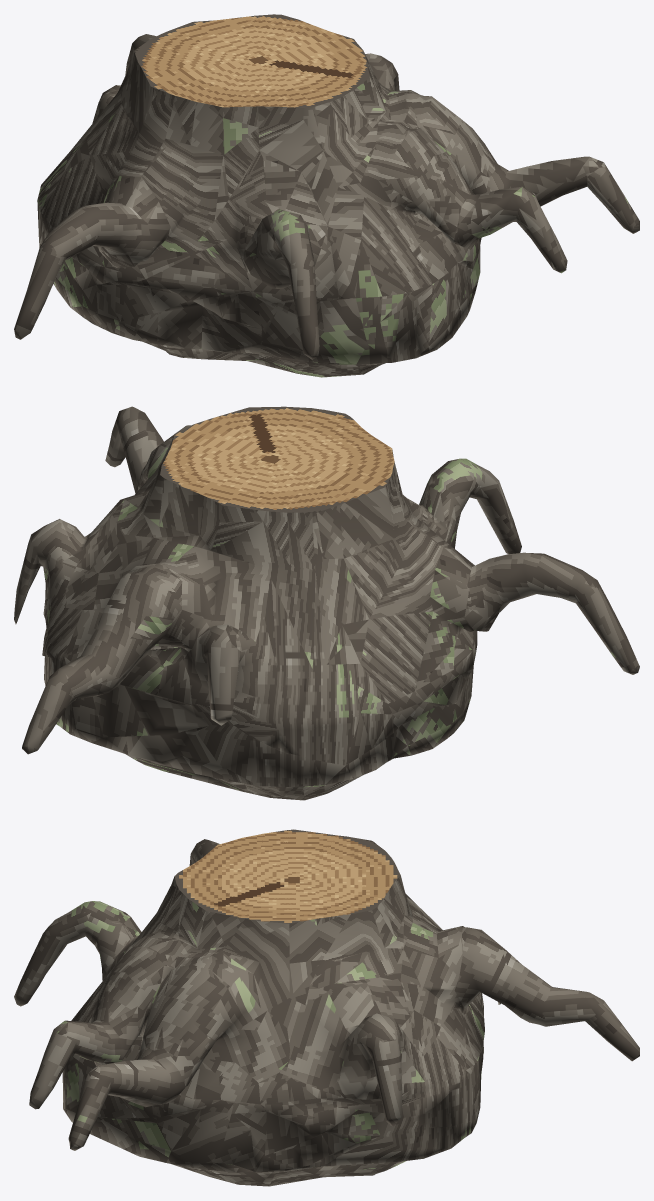
The model's file is environment_elm6_stump_v31.fbx.
The picture shows the model from 3 angles, top to bottom: view 1: azimuth 30°, elevation 25°; view 2: azimuth 150°, elevation 25°; view 3: azimuth 270°, elevation 25°; orthographic projection. The views are drawn at different scales.
Visible parts, largest first — view 1: environment_elm6_stump_v31; view 2: environment_elm6_stump_v31; view 3: environment_elm6_stump_v31.
Boxes of the visible parts, left/top/right/bottom form: environment_elm6_stump_v31: left=14, top=14, right=639, bottom=377; environment_elm6_stump_v31: left=14, top=406, right=639, bottom=800; environment_elm6_stump_v31: left=14, top=829, right=639, bottom=1186.
Size of the model in its own units: 542 by 249 by 542.
Materials: 2 (2 with a texture image).
